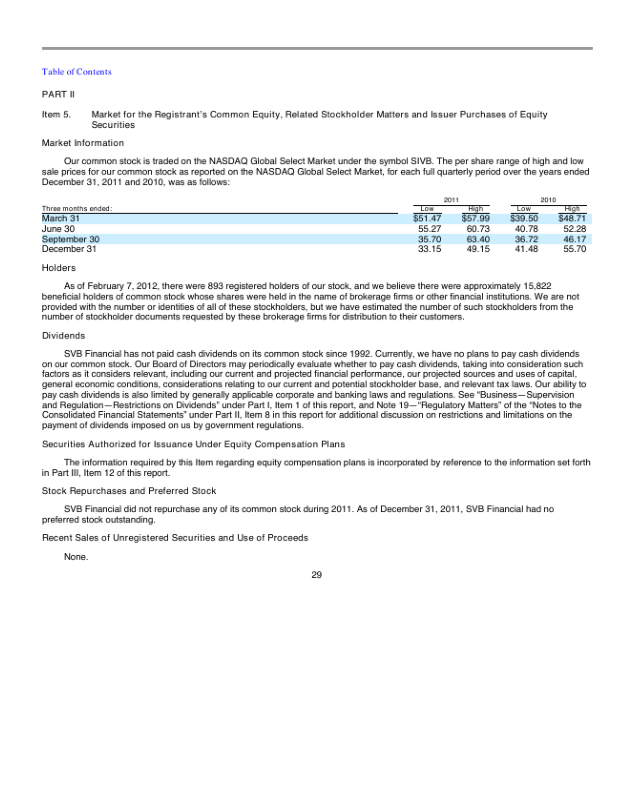table: (405, 196, 589, 252)
